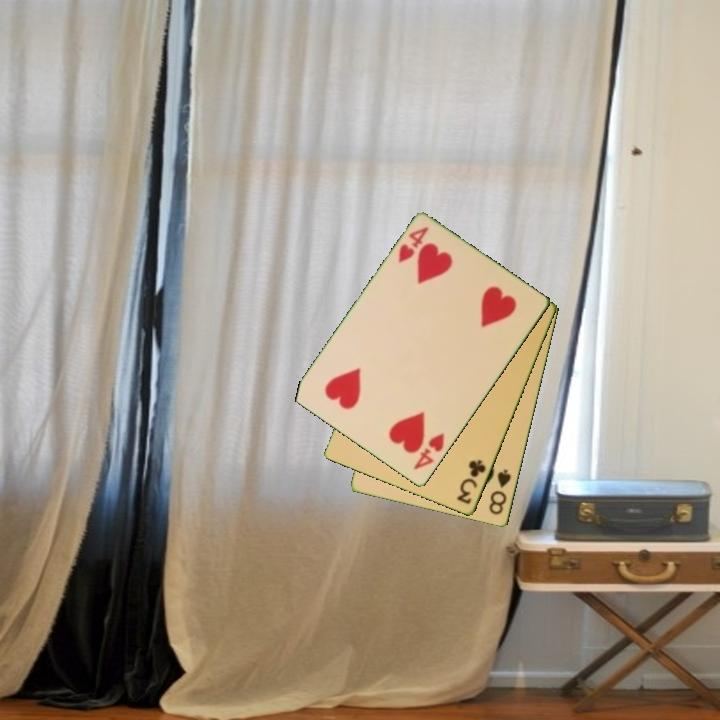3c: (453, 456, 489, 507)
4h: (410, 430, 447, 473), (395, 223, 432, 266)
8s: (486, 466, 514, 518)
